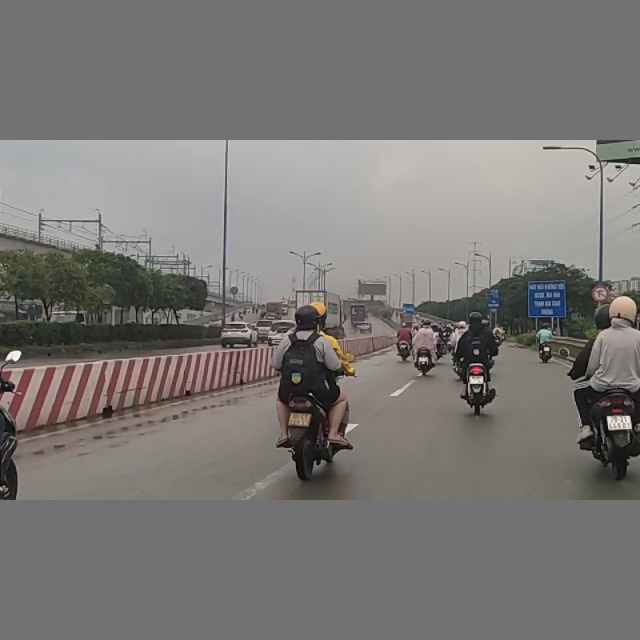P.123b: (593, 284, 608, 301)
